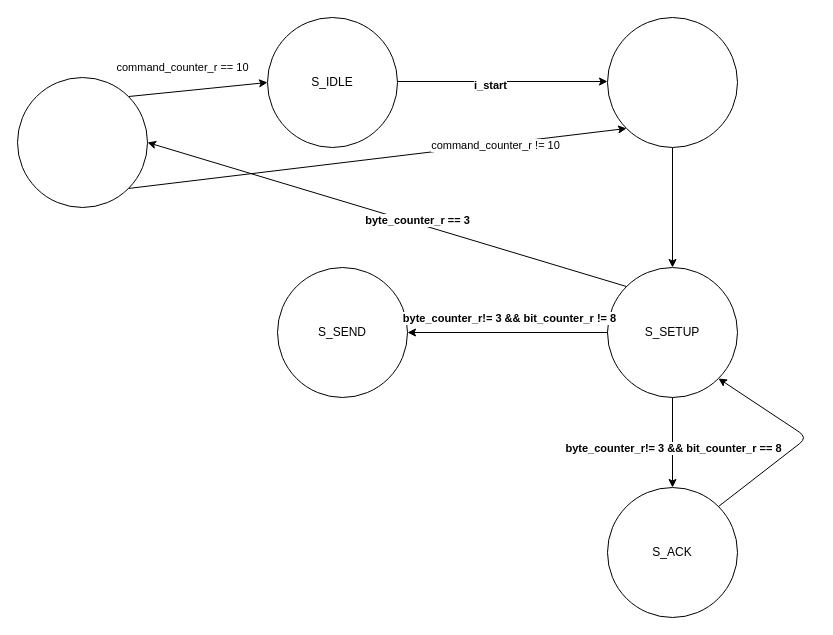
Some shapes in this 833 by 635 pixel diagram are drawn without their labels. Each missing label, with the box of its shape:
S_START: (606, 16, 738, 148)
S_STOP: (16, 76, 148, 208)
